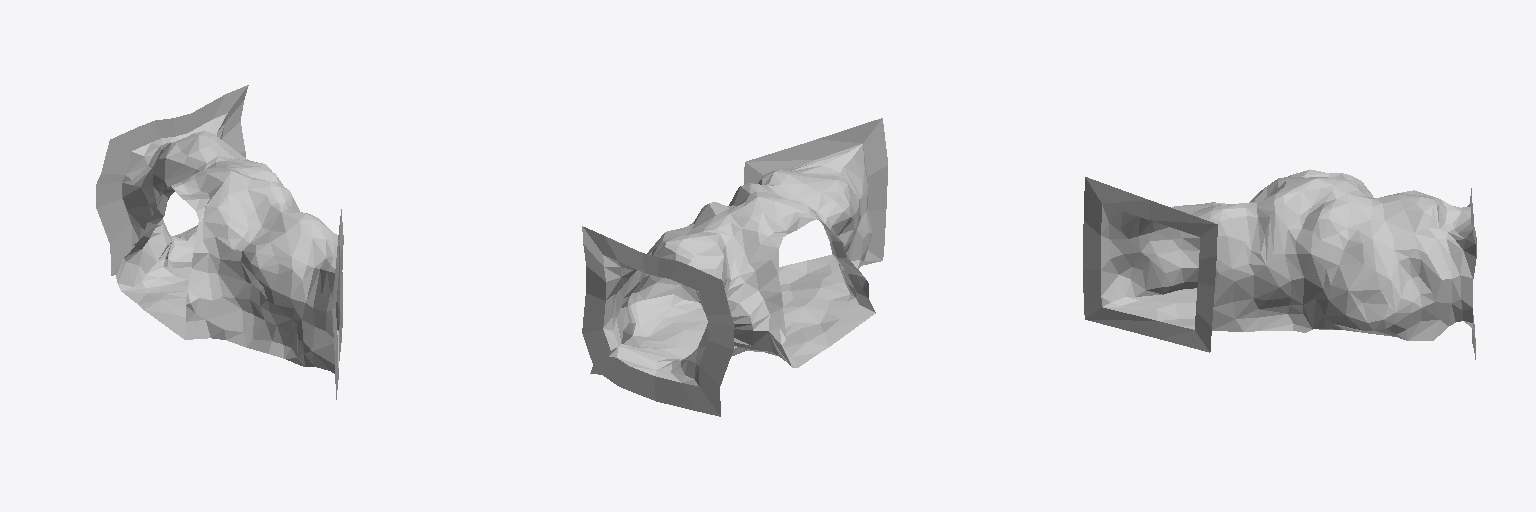
Rendered from Tunnel2_GameRes.OBJ.
The picture shows the model from 3 angles: view 1: azimuth 30°, elevation 25°; view 2: azimuth 150°, elevation 25°; view 3: azimuth 270°, elevation 25°; orthographic projection.
Parts seen in each view (by area): view 1: Group20042; view 2: Group20042; view 3: Group20042.
Boxes of the visible parts, box(x1,y1,x2,y2) form: Group20042: box(96, 85, 343, 399); Group20042: box(582, 118, 887, 416); Group20042: box(1083, 169, 1476, 359).
Bounding box in the file's own units: 546 × 459 × 1039.